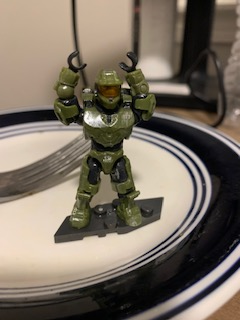chief: (51, 49, 157, 230)
spartan: (49, 47, 155, 228)
up: (51, 45, 157, 145)
